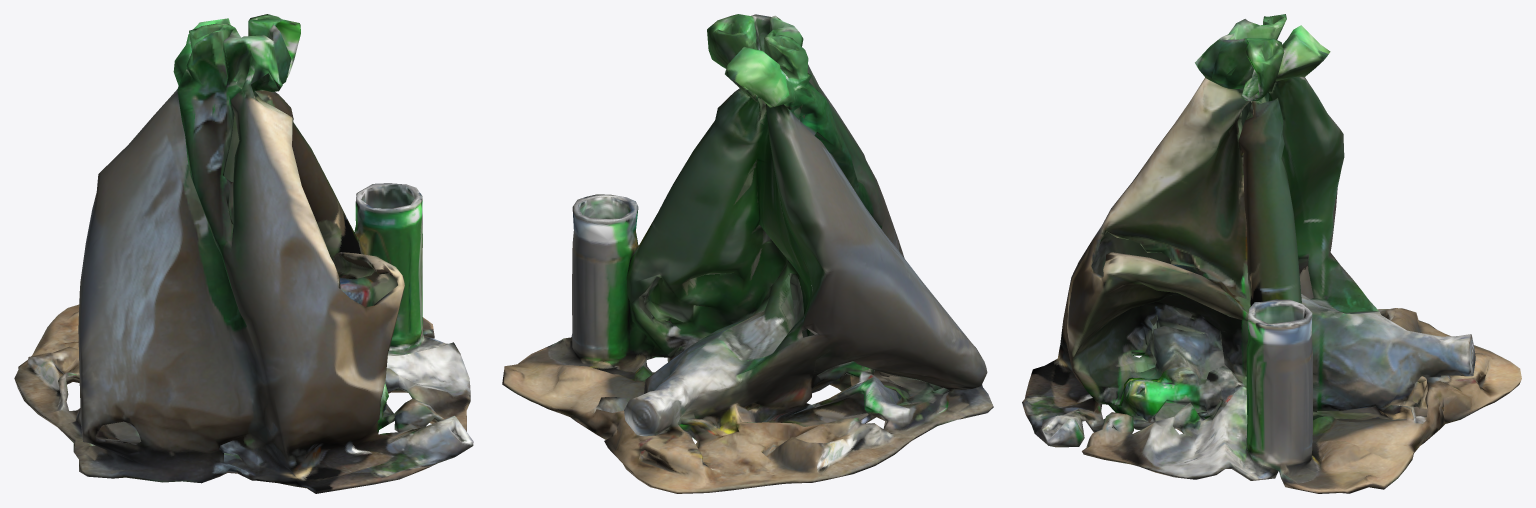
Rendered from trash2.glb.
3 renders of one model, left to right at view 1: azimuth 30°, elevation 25°; view 2: azimuth 150°, elevation 25°; view 3: azimuth 270°, elevation 25°, orthographic. The views are drawn at different scales.
Bounding box in the file's own units: 1.86 × 1.61 × 1.99.
1 material, 1 textured.
